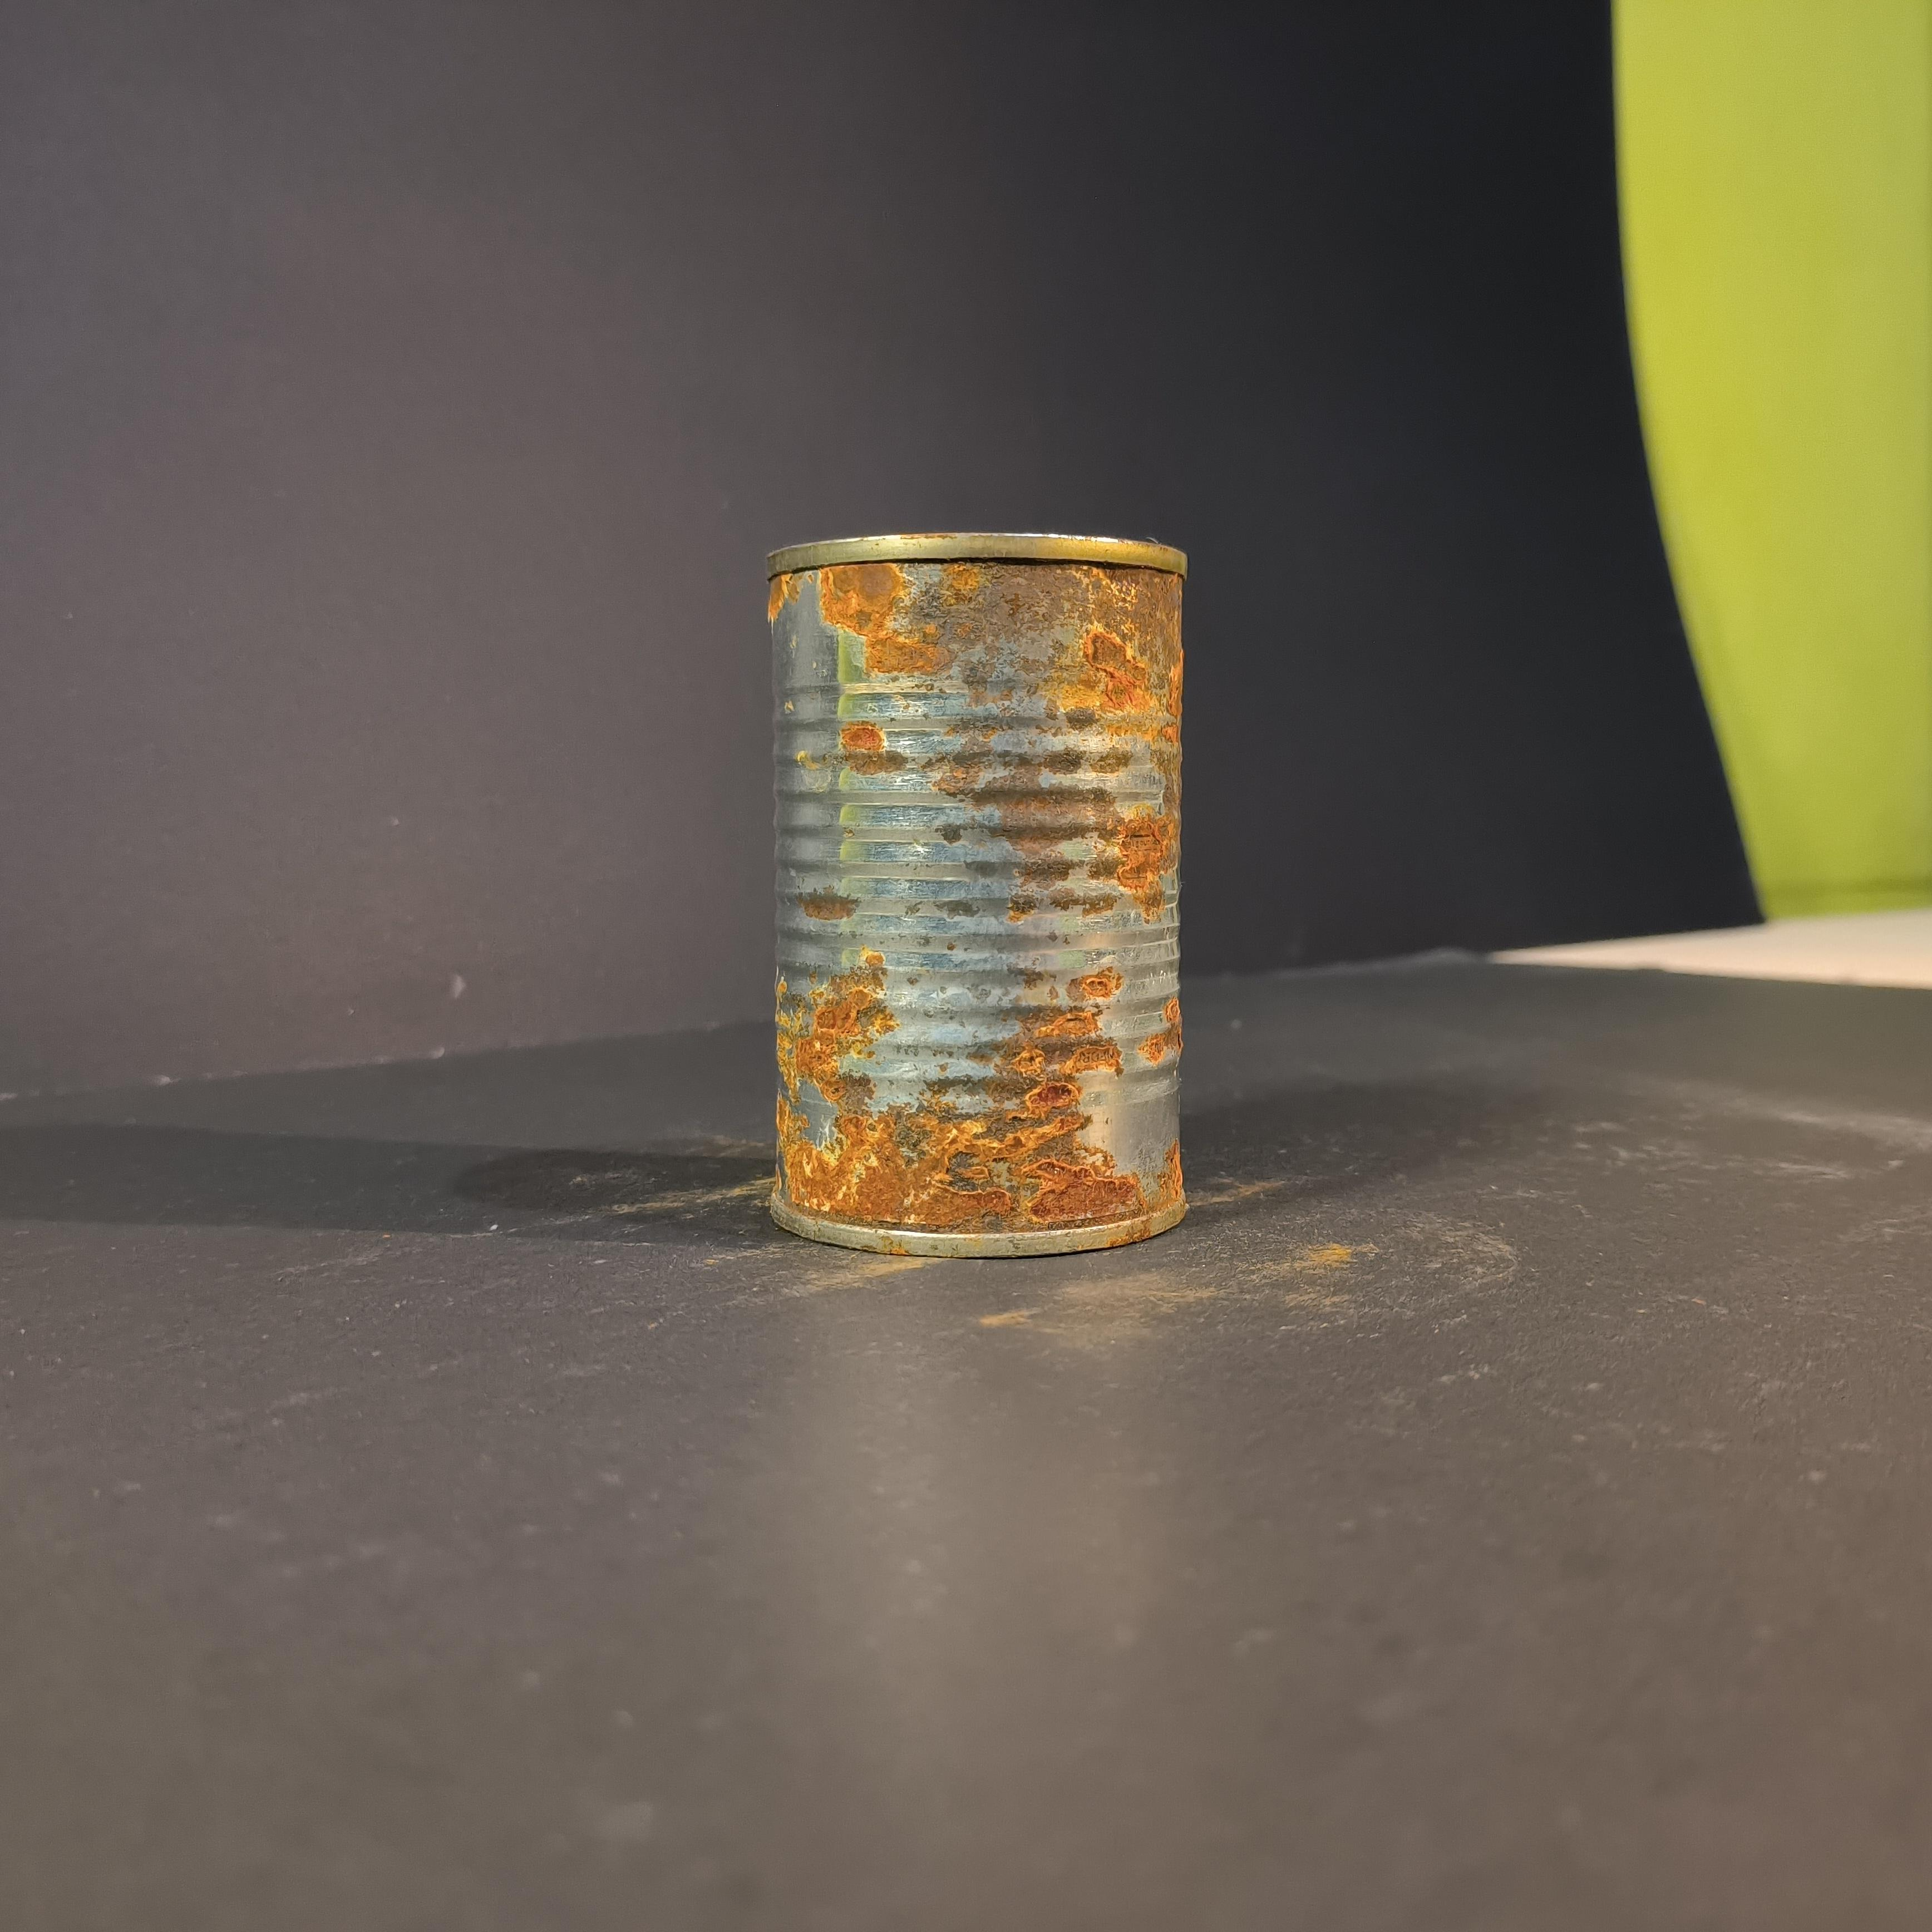Rusted: (743, 518, 1224, 1274)
